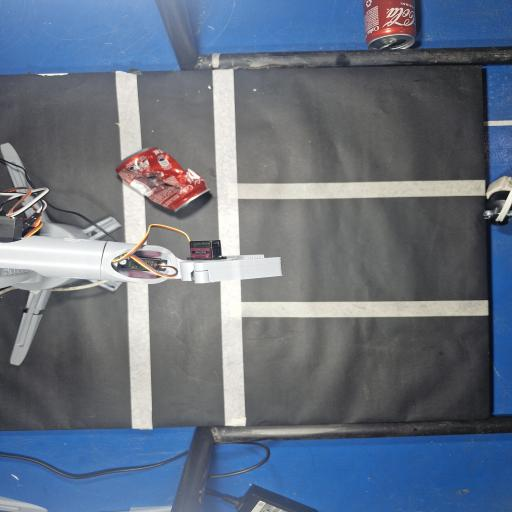lata_defectuoso: (116, 147, 209, 211)
